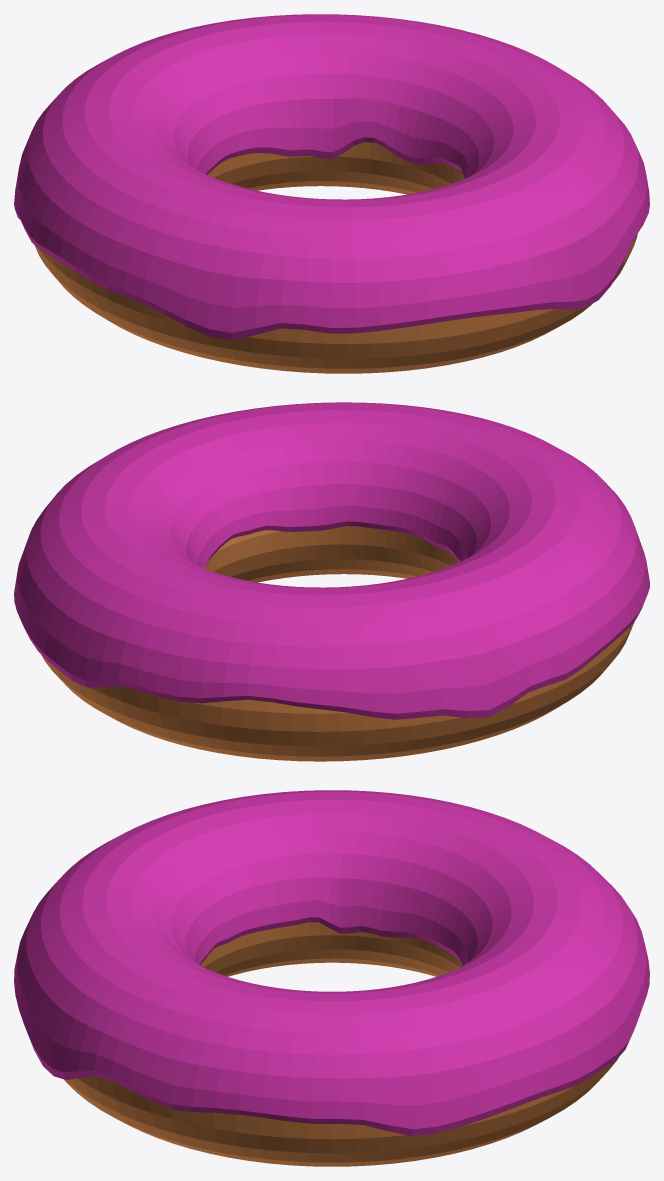
File: Single Doughnut.fbx
3 views of the same model, one above another, from view 1: azimuth 30°, elevation 25°; view 2: azimuth 150°, elevation 25°; view 3: azimuth 270°, elevation 25° (orthographic).
Visible parts, largest first — view 1: Torus.001, Torus; view 2: Torus.001, Torus; view 3: Torus.001, Torus.
Boxes of the visible parts, x1,y1,x2,y2 form: Torus.001: (14,14,649,340); Torus: (35,142,637,373); Torus.001: (14,402,649,719); Torus: (41,526,634,761); Torus.001: (14,790,649,1136); Torus: (64,922,618,1166).
Size of the model in its own units: 11.1 by 3.25 by 11.1.
